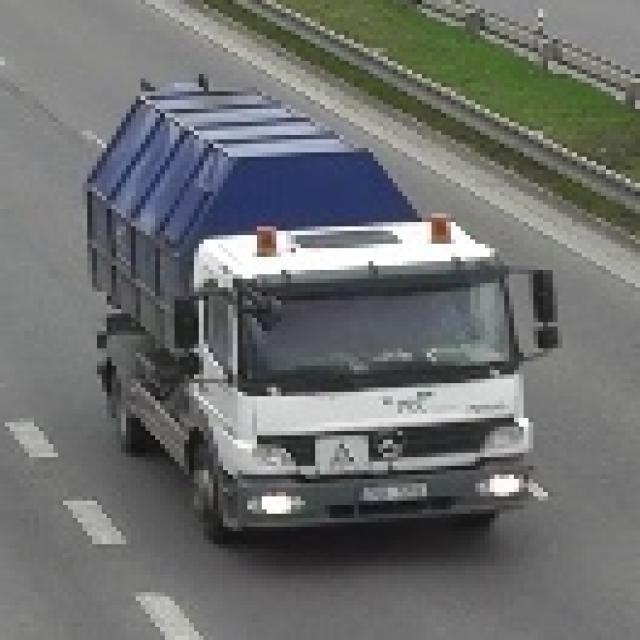truck: (88, 78, 562, 536)
